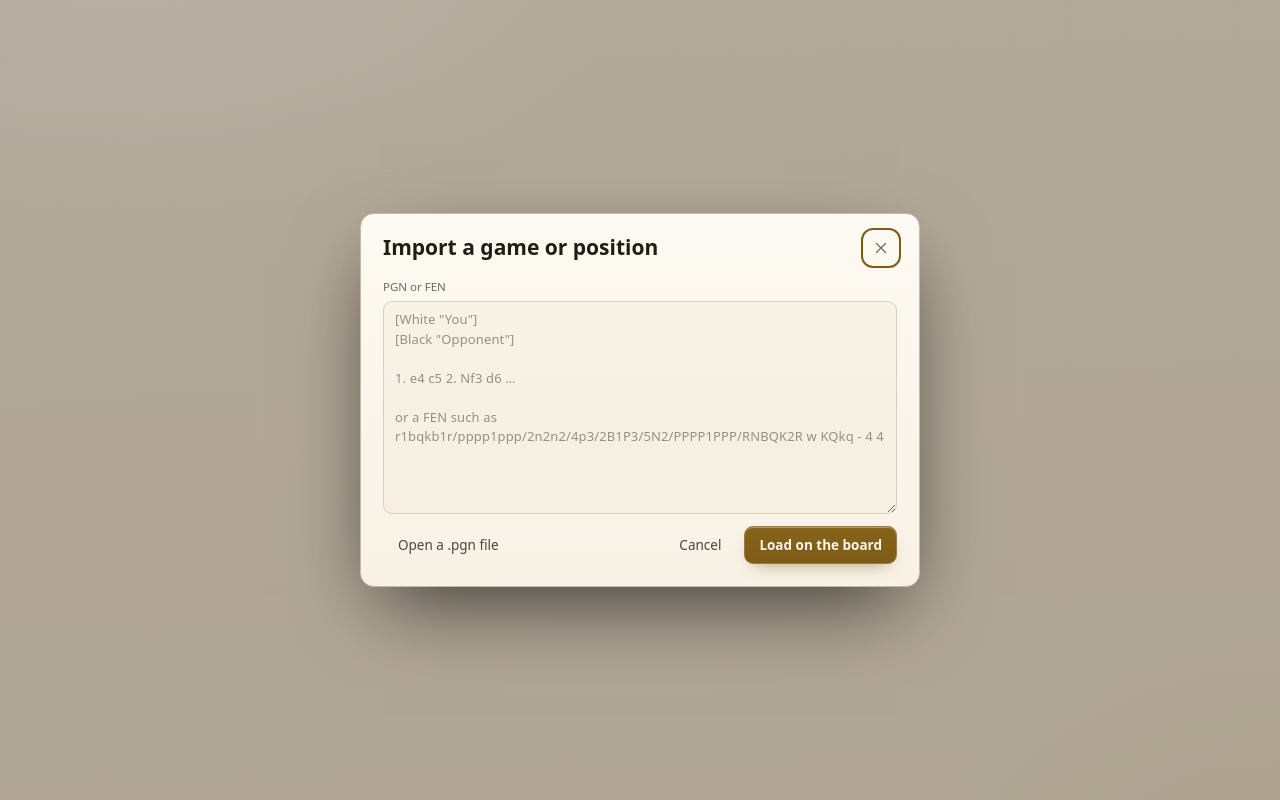
Test: ImportDialog › shows the server error
Type "1. e4 e5 2. Ke3" into the text box labelled "PGN or FEN" at (640, 408), box [383,301,897,514]
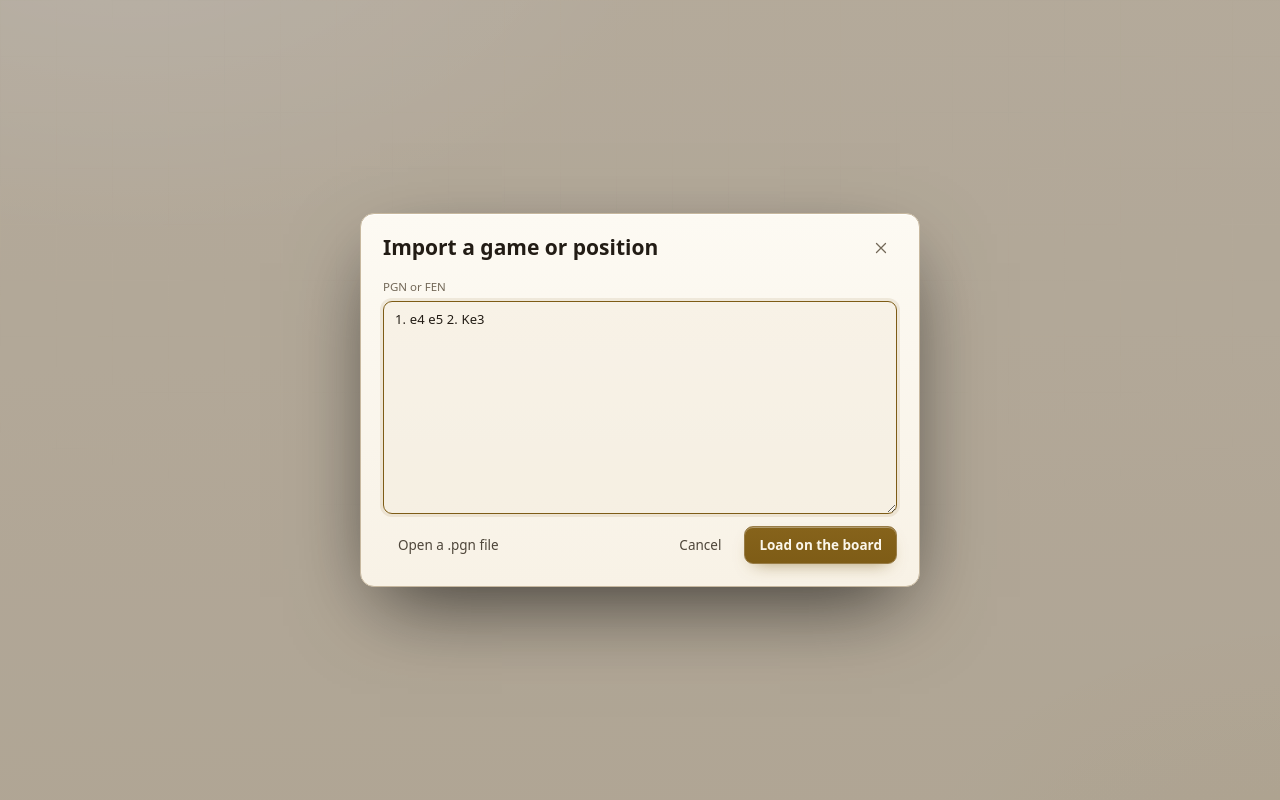
Click the button "Load on the board" at (821, 545), box [744,526,897,564]
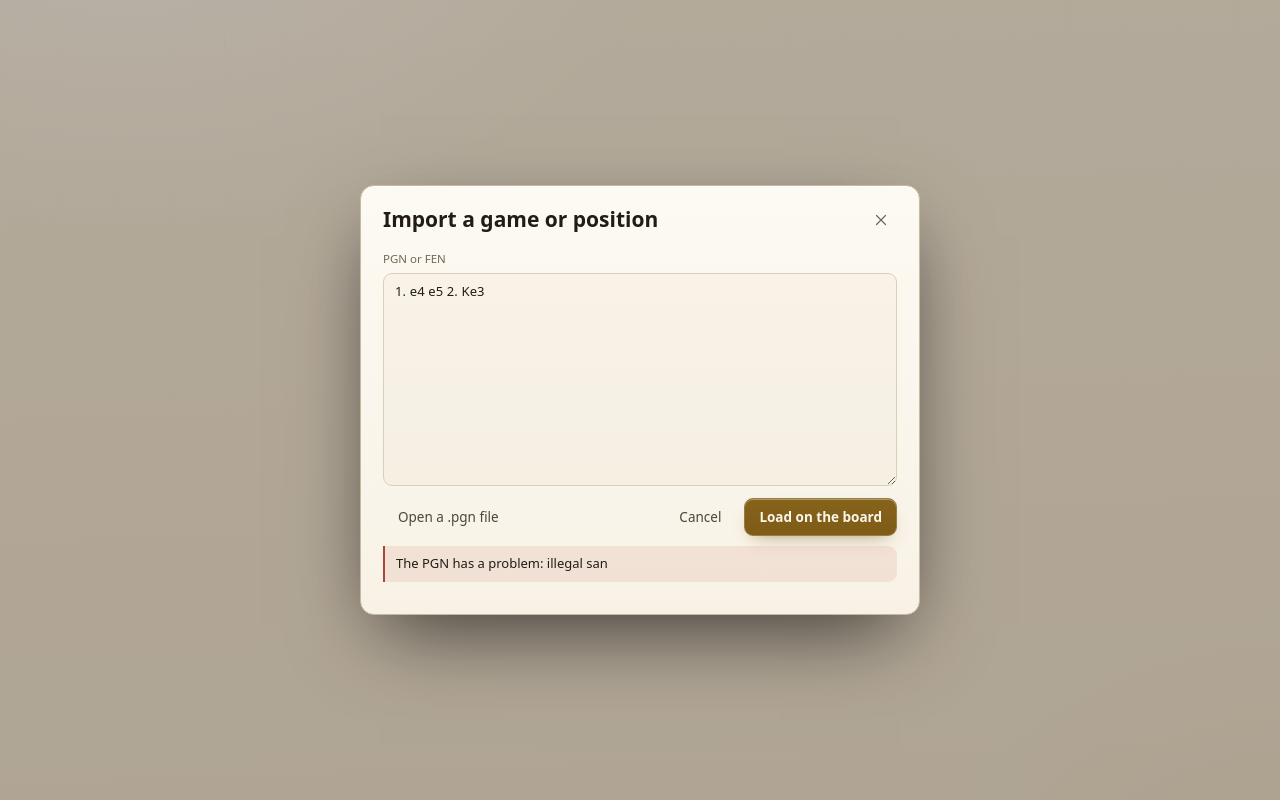
Expected: the message reads "The PGN has a problem: illegal san", [396,554,608,572]
